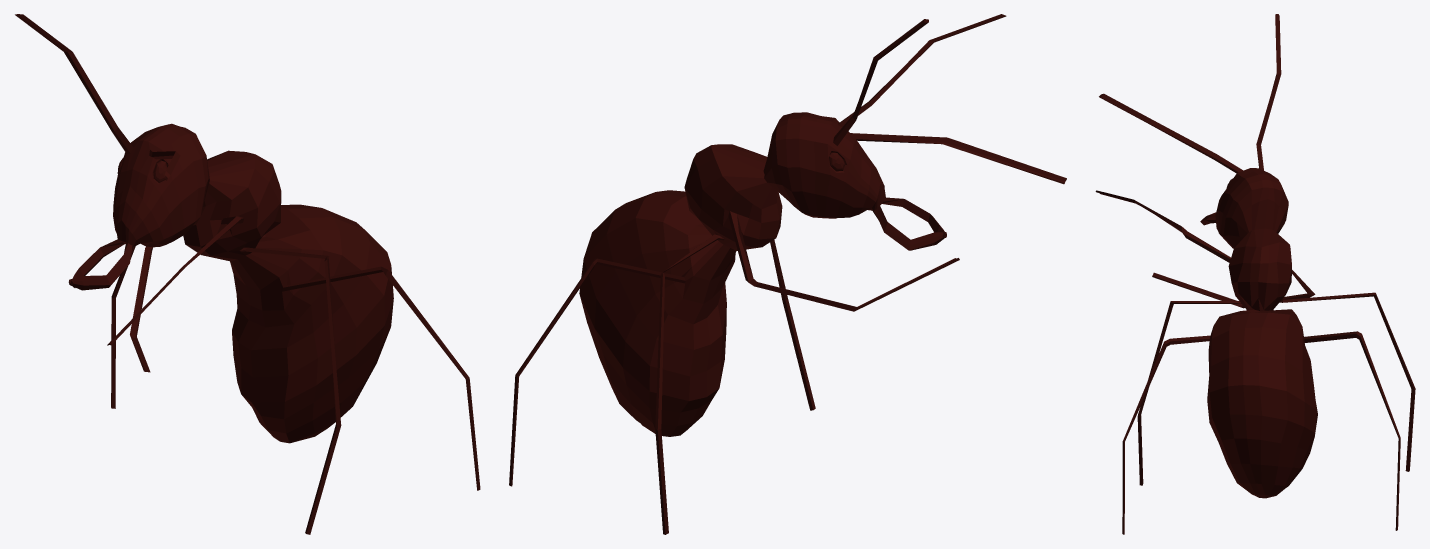
The model's file is warrior.obj.
3 renders of one model, left to right at view 1: azimuth 30°, elevation 25°; view 2: azimuth 150°, elevation 25°; view 3: azimuth 270°, elevation 25°, orthographic. The views are drawn at different scales.
Visible parts, largest first — view 1: Icosphere.001; view 2: Icosphere.001; view 3: Icosphere.001.
Boxes of the visible parts, x1,y1,x2,y2 form: Icosphere.001: (15,14,480,534); Icosphere.001: (509,14,1066,534); Icosphere.001: (1095,14,1415,534).
Bounding box in the file's own units: 6.64 × 8.27 × 6.09.
